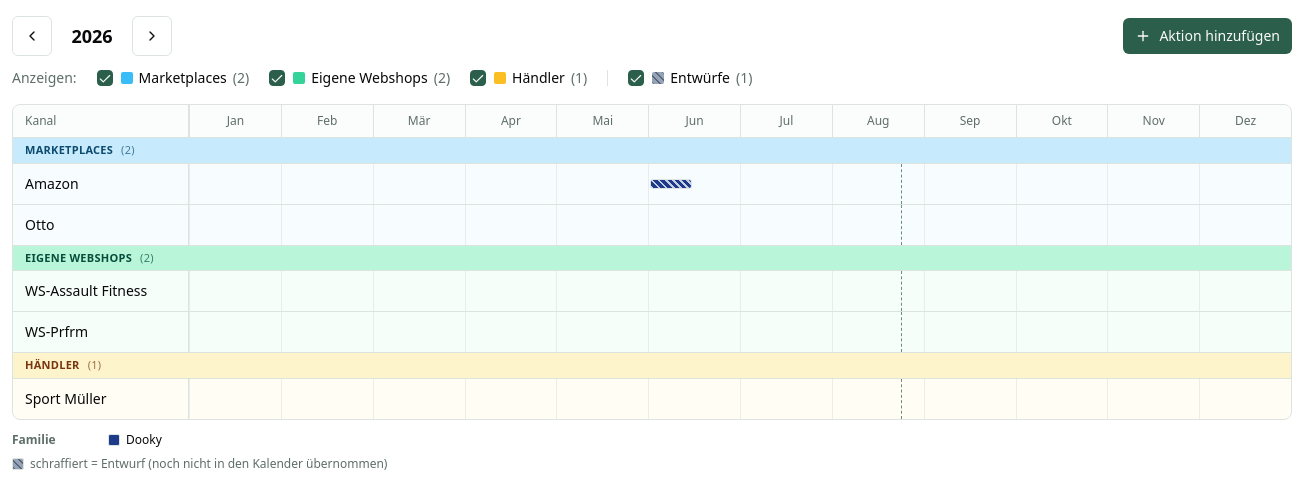
CalendarView drafts (PROJ-6 revision 2026-08-24) › explains an empty grid caused by hidden drafts instead of looking empty
Click the checkbox named "Entwürfe" next to "Entwürfe": (636, 78) x1=628 y1=70 x2=644 y2=86
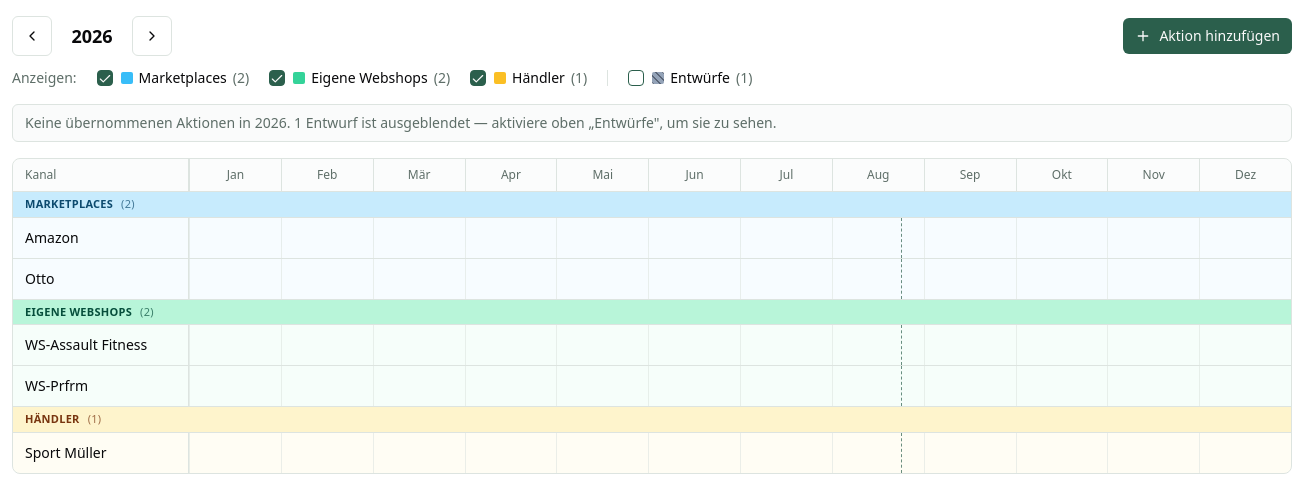
Expected: the text "1 Entwurf ist" is shown, x1=294 y1=113 x2=376 y2=132
